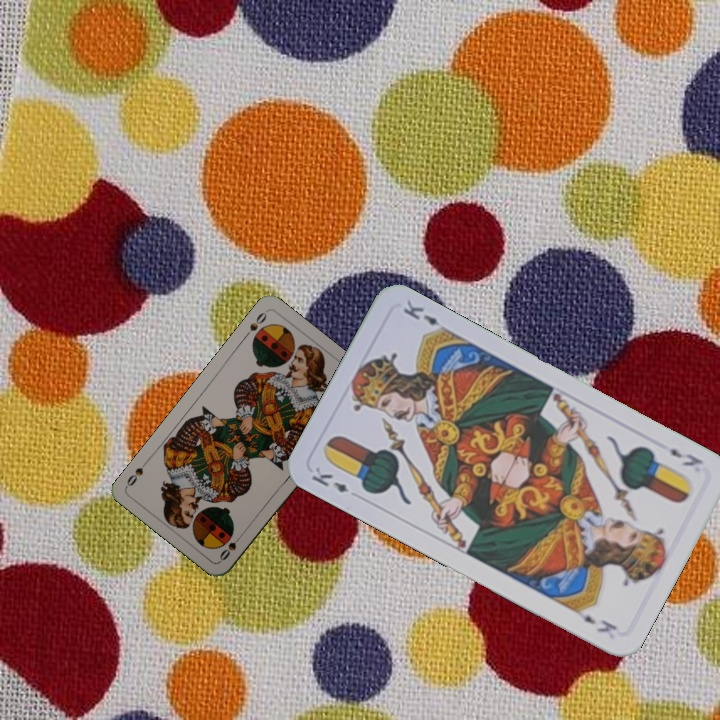EK: (307, 462, 351, 495), (666, 444, 706, 469)
SO: (215, 529, 245, 563), (240, 308, 269, 341)
